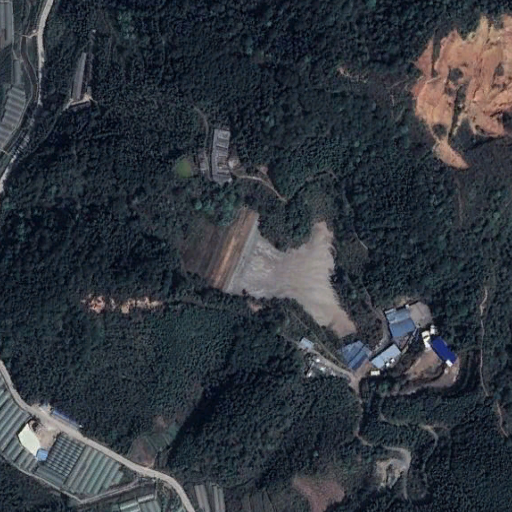tp: (206, 203, 358, 340)
